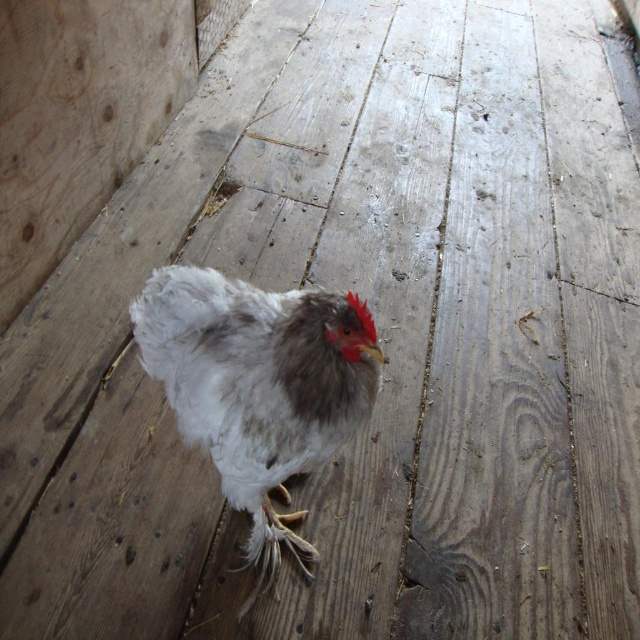Chicken: (123, 261, 384, 573)
